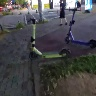beam: (65, 7, 96, 49)
gcooter: (24, 17, 74, 62)
